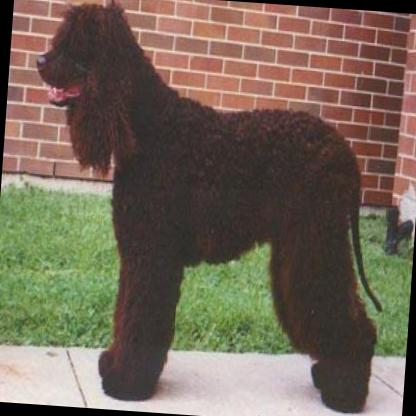Irish_water_spaniel: (6, 0, 407, 416)
